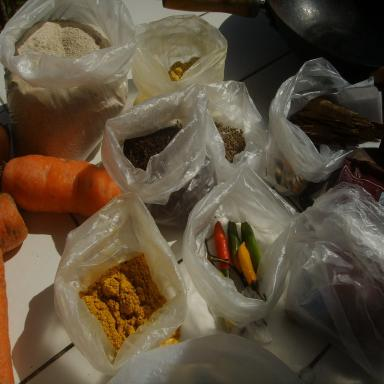plasticbag: (50, 192, 190, 366), (262, 188, 384, 359), (1, 2, 138, 141), (184, 166, 294, 337), (265, 48, 383, 183), (127, 87, 259, 193), (131, 10, 247, 98)
